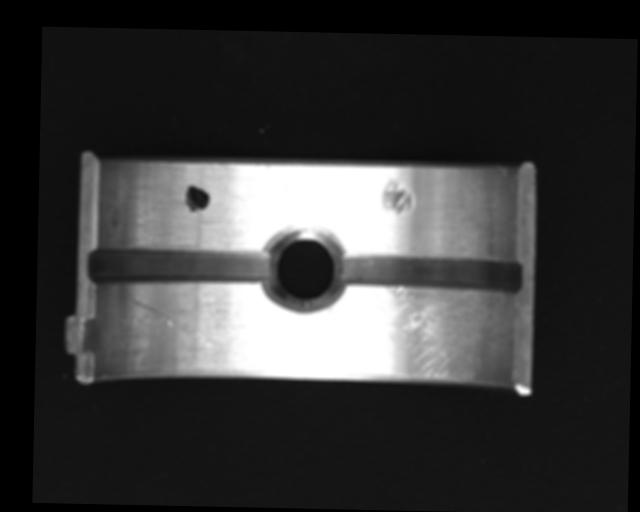blot: (184, 184, 211, 213)
bruise: (380, 176, 413, 215)
gap: (335, 253, 524, 295), (87, 246, 269, 284)
hole: (263, 223, 345, 313)
nick: (129, 298, 216, 349)
scratch: (337, 284, 506, 384)
